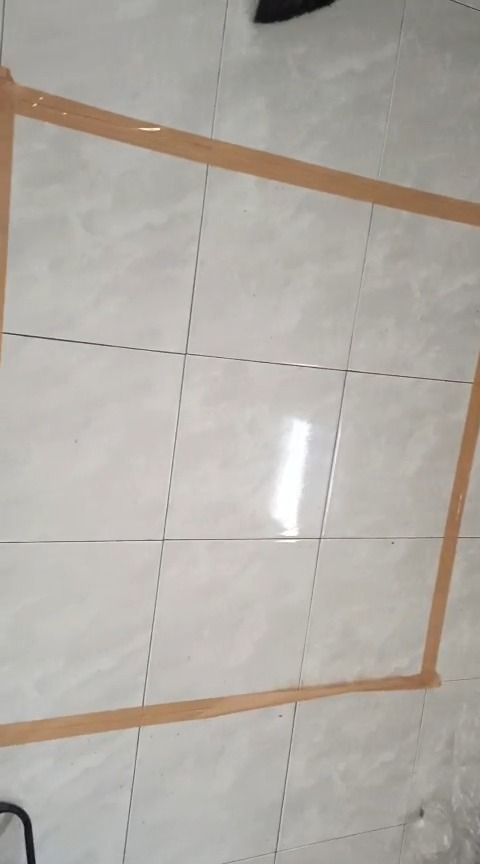floor marking: (2, 354, 479, 746), (2, 67, 479, 315)
